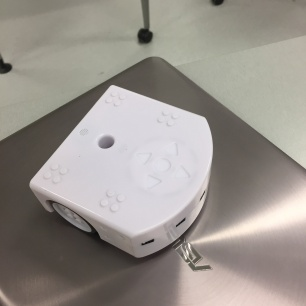thymio: (25, 81, 219, 264)
